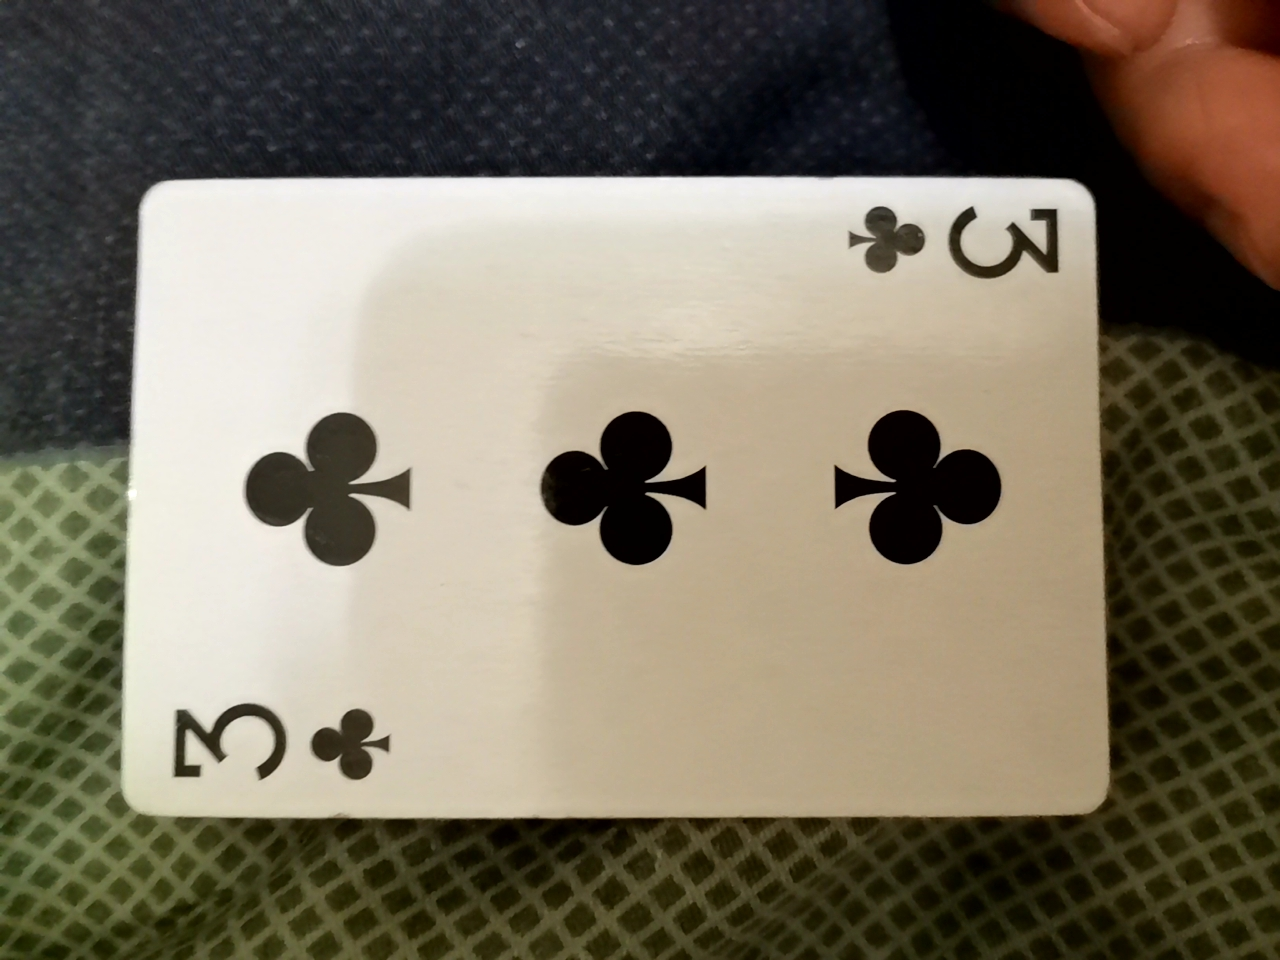mh 3: (111, 179, 1110, 830)
